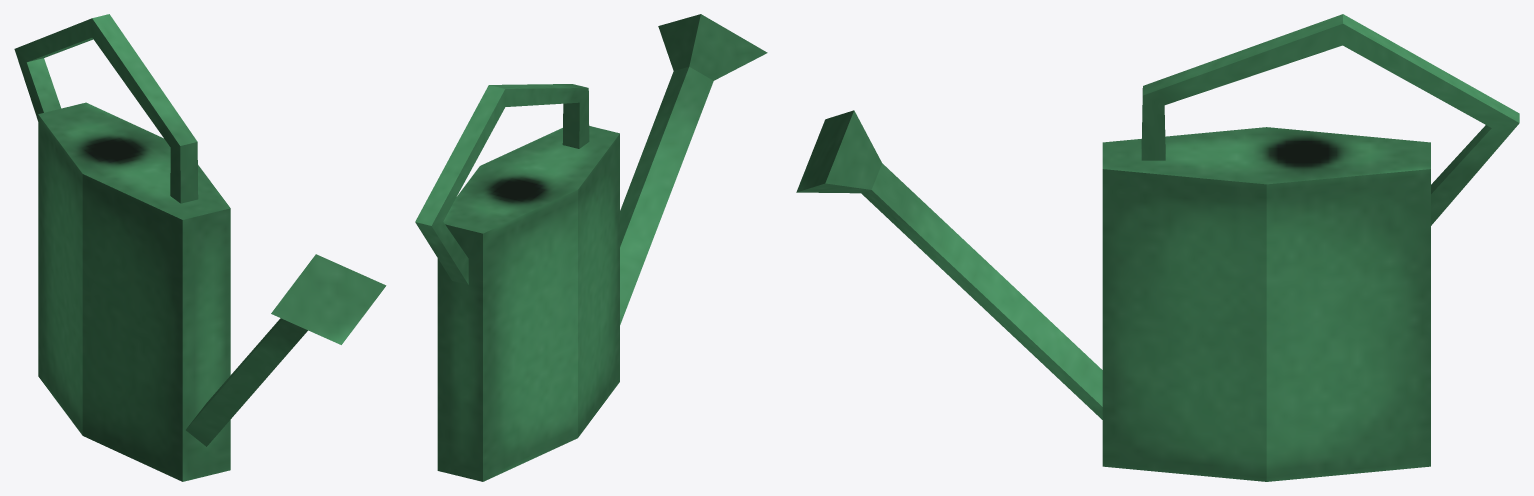
Rendered from watering_can.fbx.
3 renders of one model, left to right at view 1: azimuth 30°, elevation 25°; view 2: azimuth 150°, elevation 25°; view 3: azimuth 270°, elevation 25°, orthographic. The views are drawn at different scales.
Visible parts, largest first — view 1: watering can; view 2: watering can; view 3: watering can.
Boxes of the visible parts, box(x1,y1,x2,y2) form: watering can: box(14, 14, 386, 481); watering can: box(415, 14, 767, 481); watering can: box(796, 14, 1519, 481).
Size of the model in its own units: 16.93 by 53.47 by 80.68.
